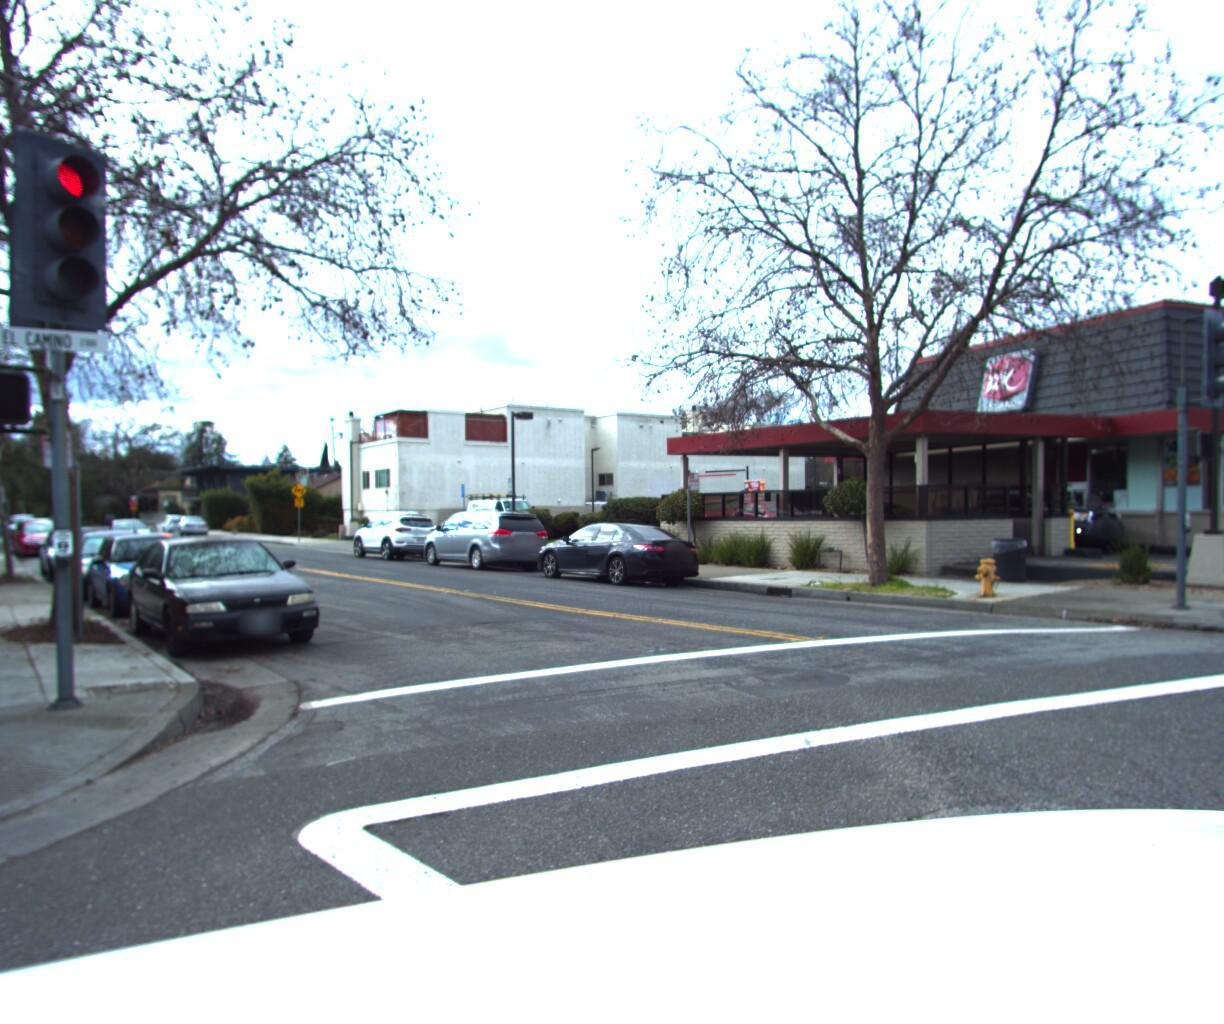car: (114, 520, 338, 669), (938, 473, 1145, 552), (77, 520, 232, 620), (528, 510, 715, 588), (419, 499, 559, 569), (61, 516, 174, 598), (349, 502, 452, 555), (36, 514, 119, 574), (15, 510, 80, 551), (101, 506, 167, 545), (10, 507, 69, 543), (171, 505, 218, 528), (154, 504, 198, 527), (0, 505, 21, 527)
